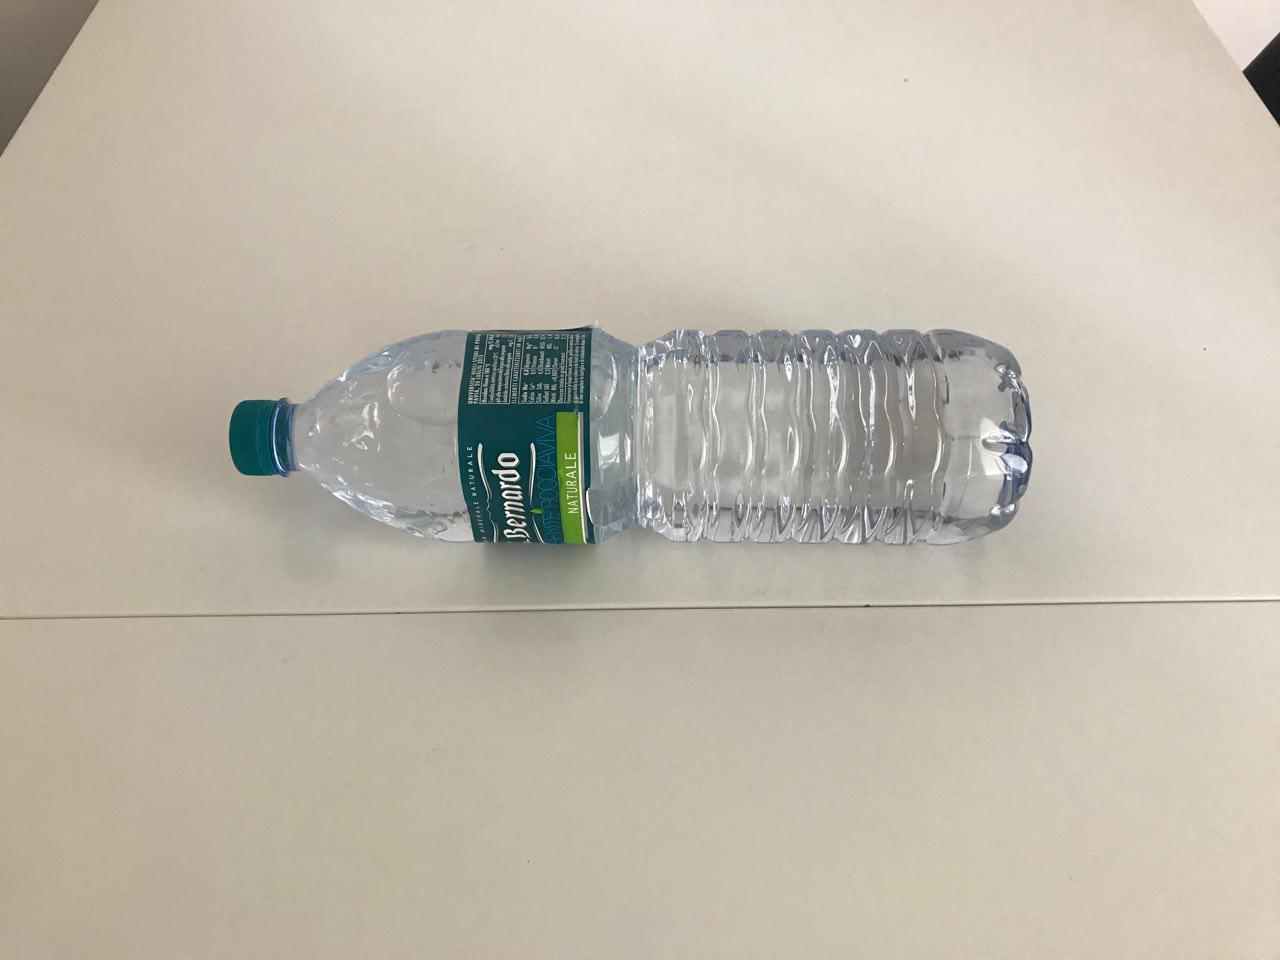san_bernardo: (226, 326, 1035, 547)
